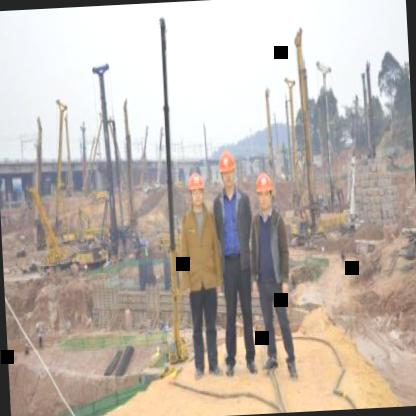helmet: (216, 148, 238, 194), (252, 170, 274, 214), (184, 171, 206, 214)
